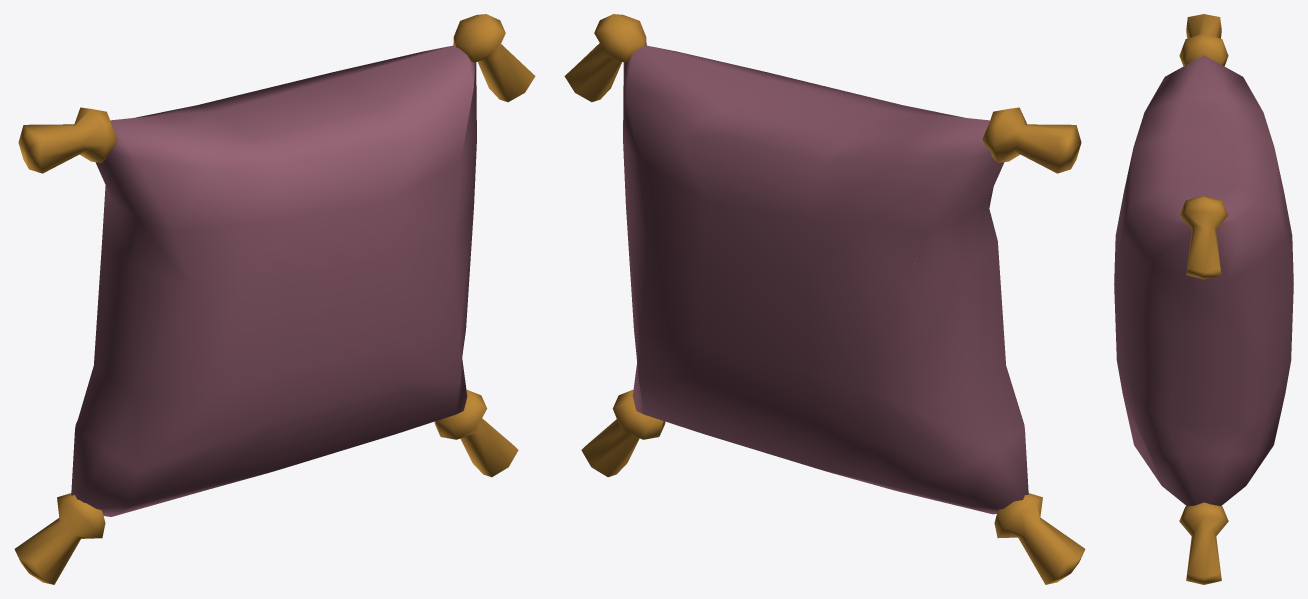
The model's file is cazetti.fbx.
3 views of the same model, side by side, from view 1: azimuth 30°, elevation 25°; view 2: azimuth 150°, elevation 25°; view 3: azimuth 270°, elevation 25° (orthographic). The views are drawn at different scales.
Parts seen in each view (by area): view 1: polySurface11; view 2: polySurface11; view 3: polySurface11.
Boxes of the visible parts, x1,y1,x2,y2 form: polySurface11: (14, 14, 535, 584); polySurface11: (564, 14, 1085, 584); polySurface11: (1114, 14, 1293, 584).
Bounding box in the file's own units: 733 × 634 × 265.
1 material, 1 textured.
